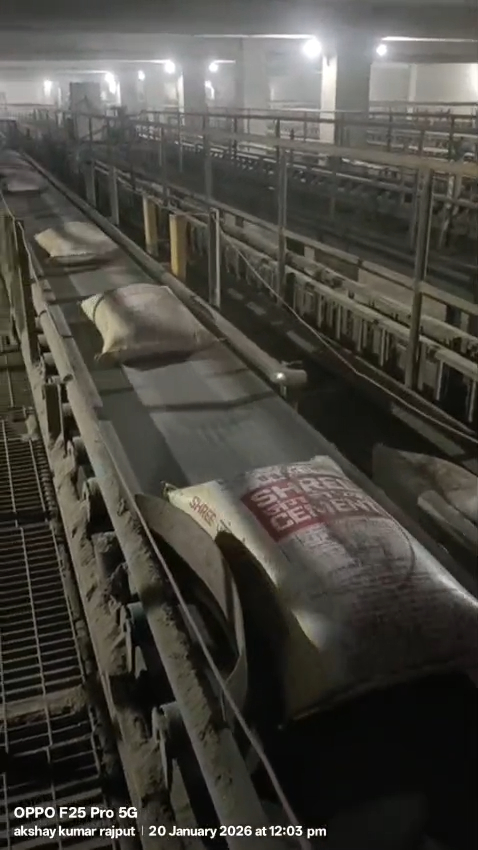Bag: (201, 458, 406, 730), (74, 286, 211, 361), (31, 221, 118, 261)
Printed: (212, 470, 393, 542), (179, 482, 282, 551)
